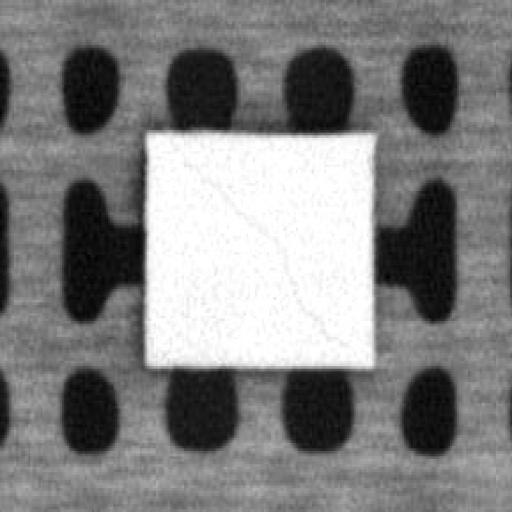DIE_CRACK: (177, 148, 353, 353)
